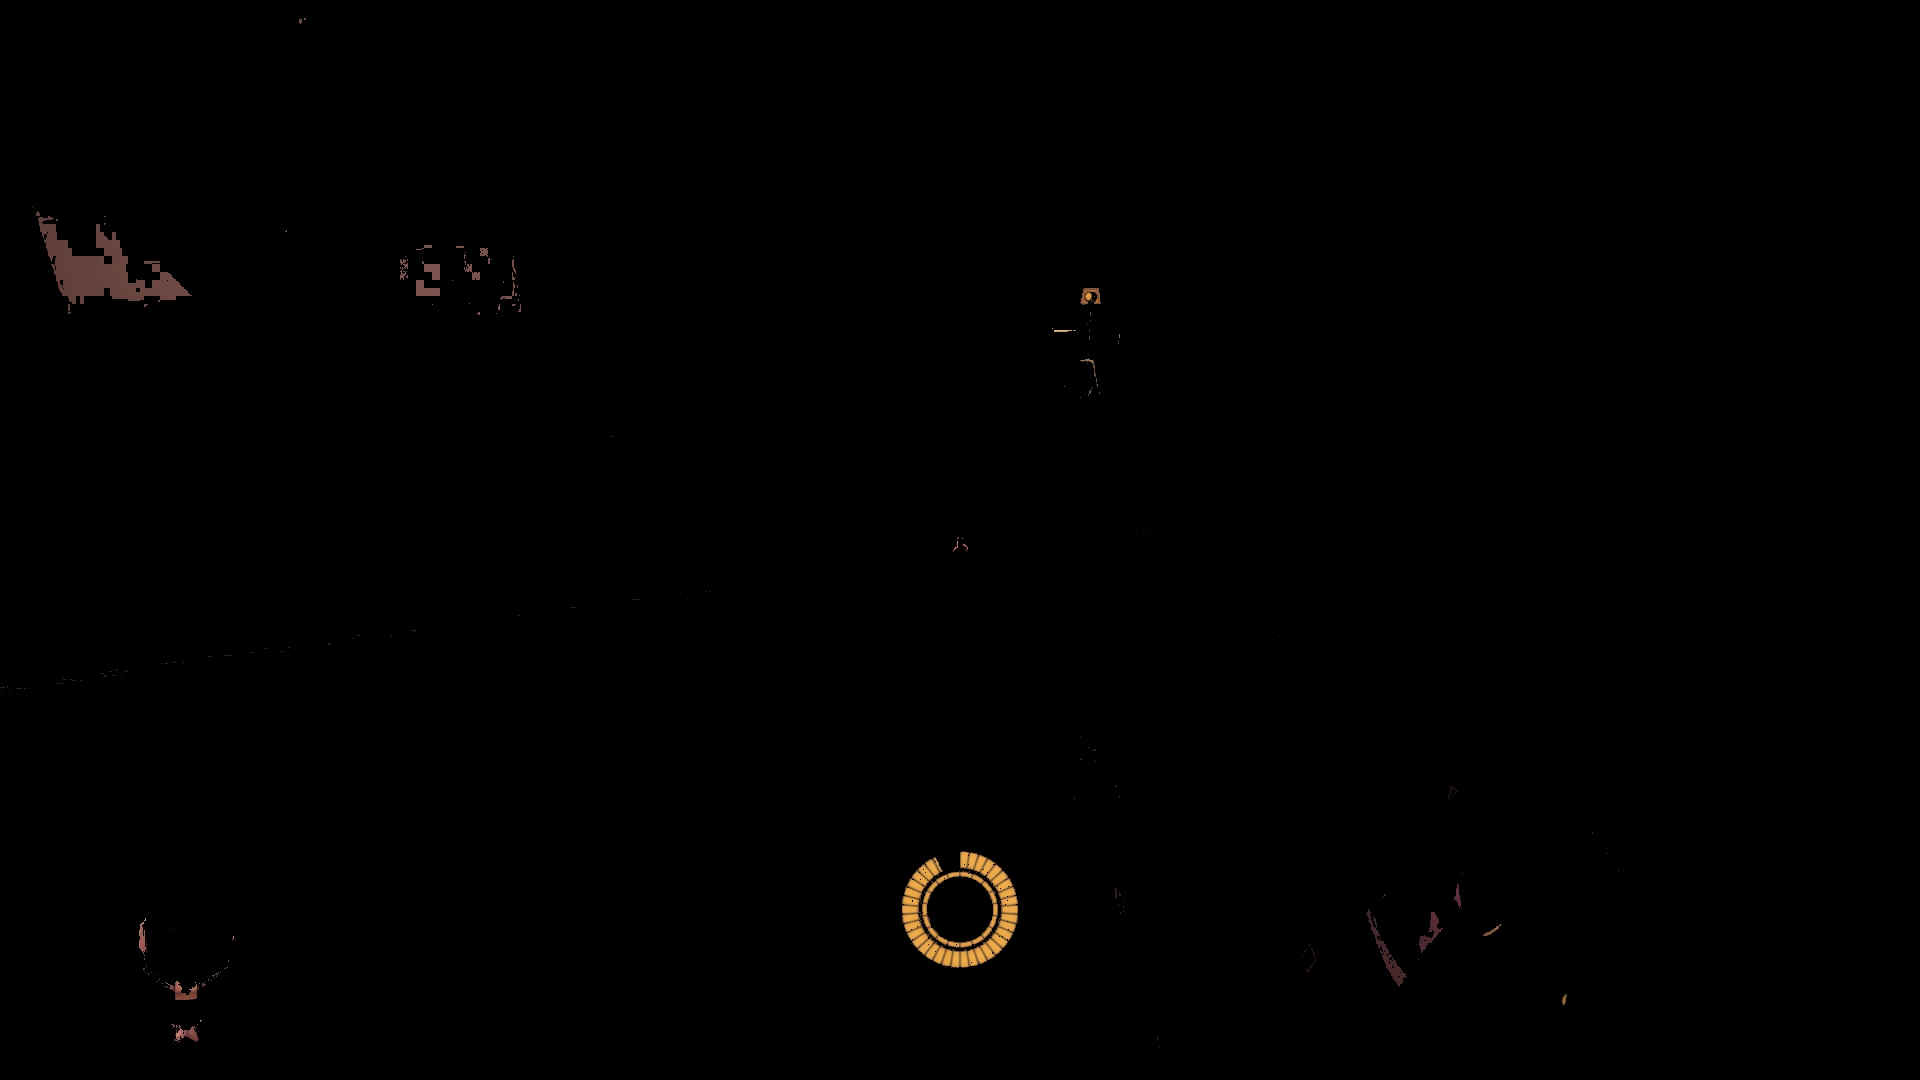widowmaker: (953, 535, 968, 551)
